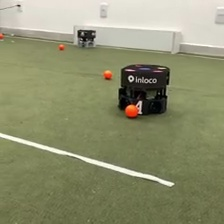ball: (124, 102, 139, 119), (102, 68, 113, 79), (57, 42, 65, 50), (1, 31, 4, 40)
goal: (72, 23, 183, 56)
robot: (116, 62, 171, 116), (76, 28, 97, 49)
